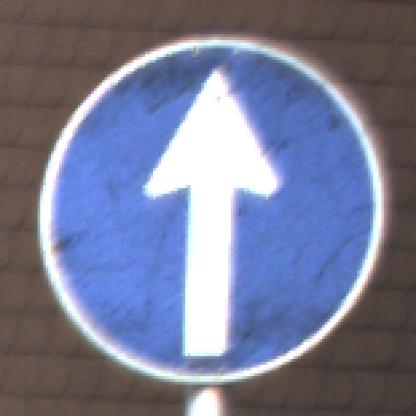AheadOnly: (39, 38, 382, 383)
